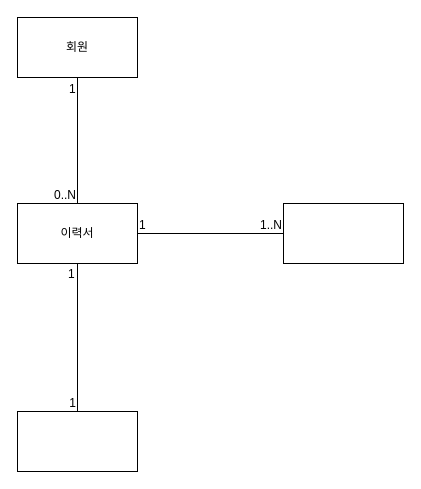
This 421x489 diagram has some shape labels left out. The centre of each missing label's shape, as x and y in pixels:
"섹션" goes at (343,233).
"템플릿" goes at (77,441).
